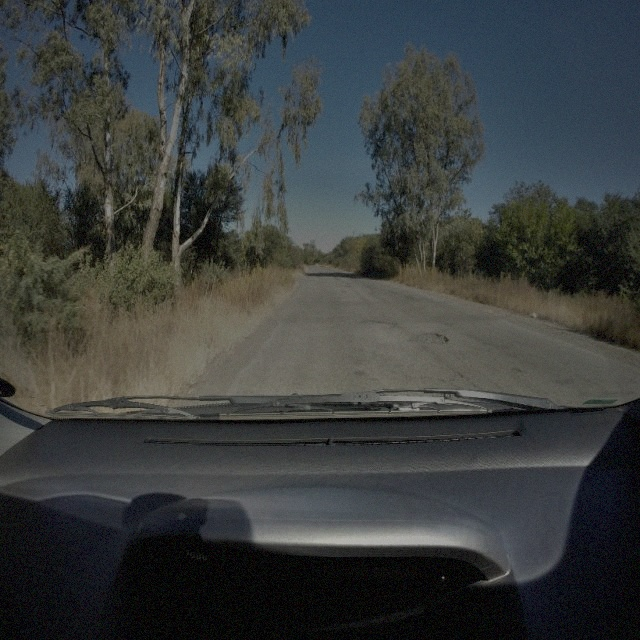pothole: (414, 328, 449, 346), (358, 317, 395, 331)
